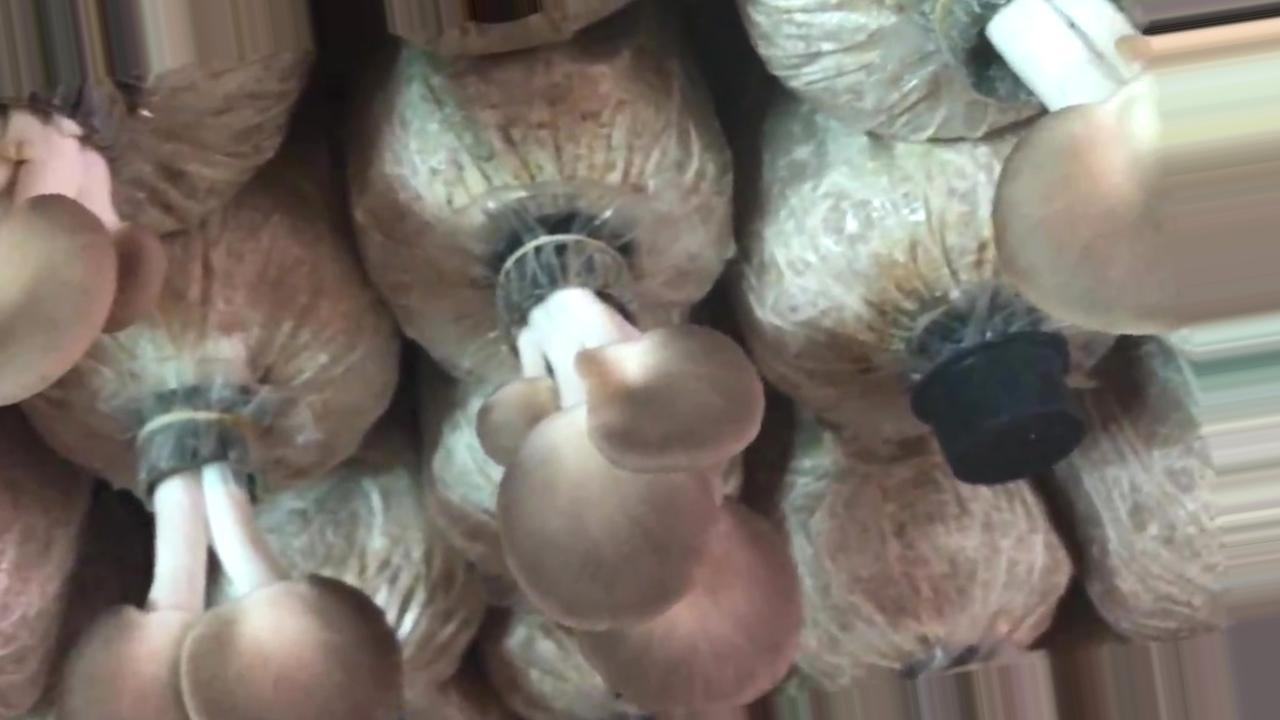nam: (476, 229, 803, 720), (927, 1, 1277, 334), (64, 409, 405, 720), (1, 1, 141, 404)
